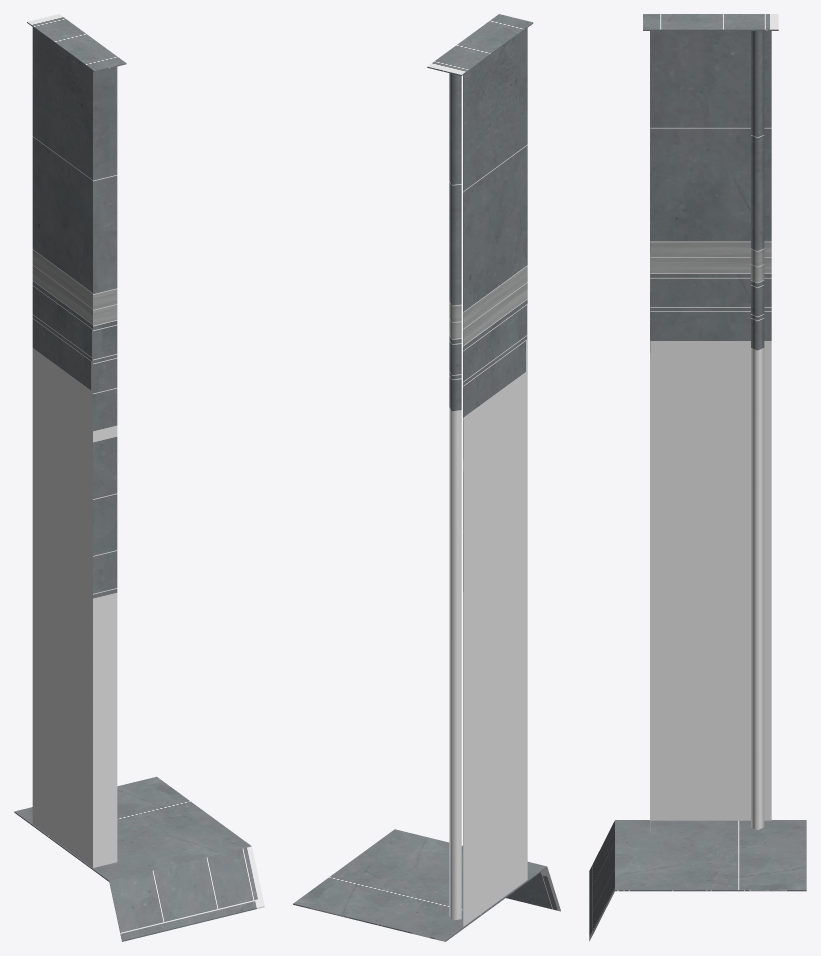
The model's file is Platform0.gltf.
The picture shows the model from 3 angles, left to right: view 1: azimuth 30°, elevation 25°; view 2: azimuth 150°, elevation 25°; view 3: azimuth 270°, elevation 25°; orthographic projection. The views are drawn at different scales.
Parts seen in each view (by area): view 1: Plaform0; view 2: Plaform0; view 3: Plaform0.
Boxes of the visible parts, x1=… form: Plaform0: x1=14, y1=14, x2=264, y2=941; Plaform0: x1=293, y1=14, x2=560, y2=941; Plaform0: x1=589, y1=14, x2=806, y2=941.
Bounding box in the file's own units: 71.5 × 405 × 93.
Materials: 1 (1 with a texture image).
